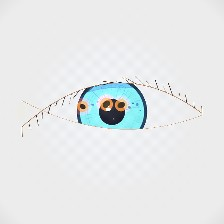foreign_body_visible: (86, 88, 127, 121)
